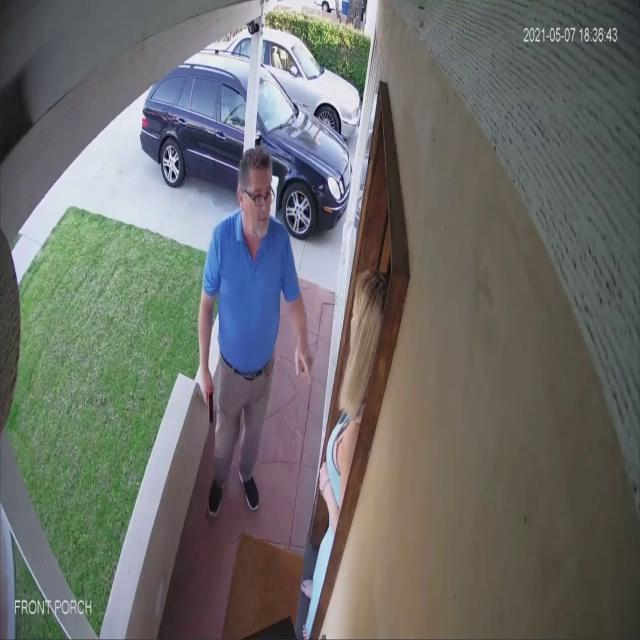gun: (202, 386, 216, 424)
